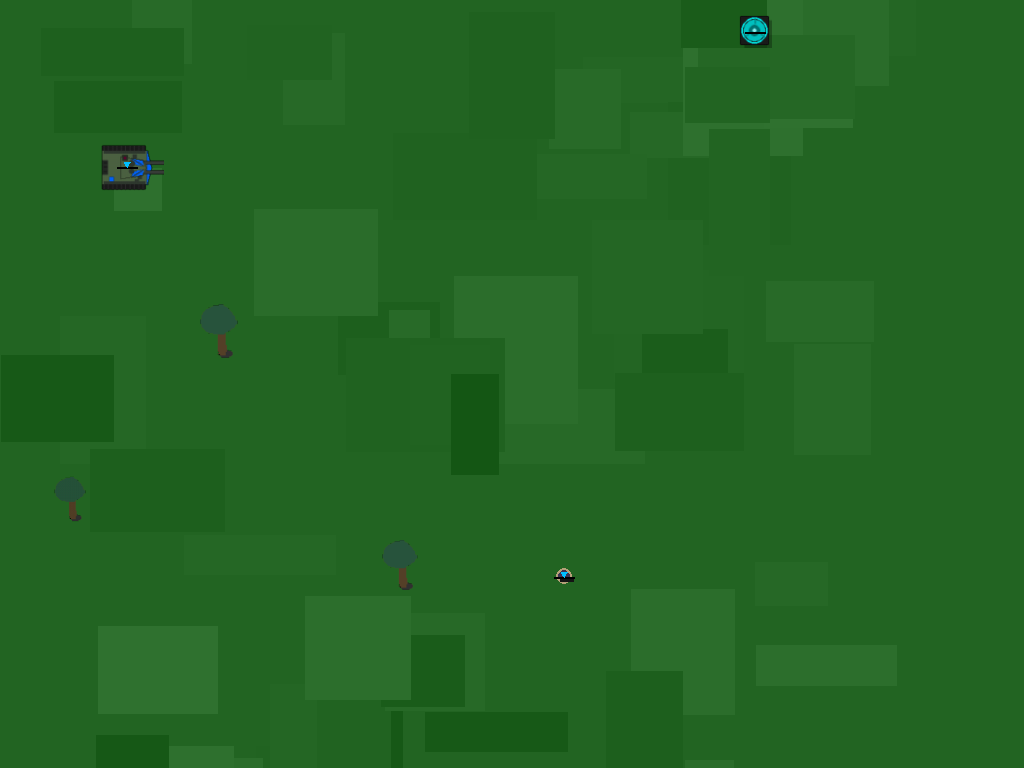LaserTurret: (731, 7, 779, 55)
RocketTrooper: (548, 560, 579, 591)
Type99: (100, 140, 152, 192)
